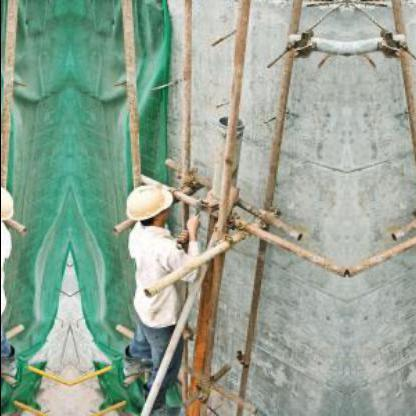Helmet: (116, 176, 180, 238), (0, 175, 20, 239)
